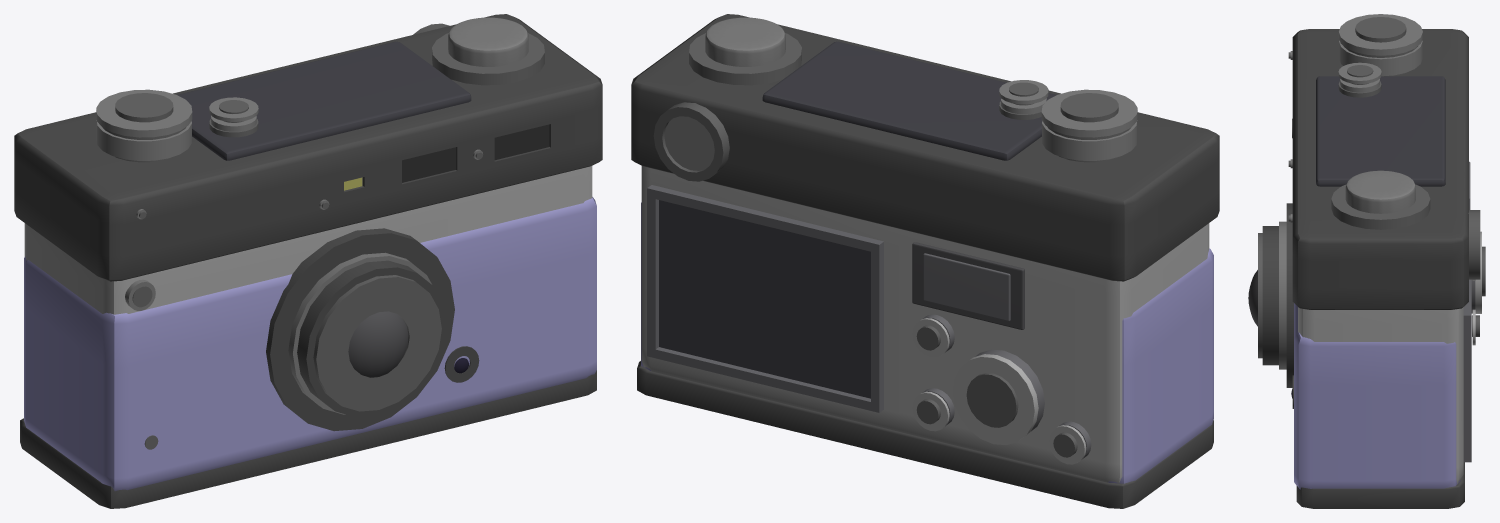
The model's file is colored camera deskroom.fbx.
The picture shows the model from 3 angles, left to right: view 1: azimuth 30°, elevation 25°; view 2: azimuth 150°, elevation 25°; view 3: azimuth 270°, elevation 25°; orthographic projection. The views are drawn at different scales.
Parts seen in each view (by area): view 1: pCube14, pCube12, pCube4, pCube1, pCylinder4, pCylinder1, pCylinder3, pCylinder6, pSphere1, pCylinder5, pCube15, pCylinder13 (+5 smaller); view 2: pCube14, pCube1, pCube8, pCube4, pCube12, pCube9, pCube11, pCylinder26, pCylinder6, pCube10, pCylinder5, pCylinder38 (+10 smaller); view 3: pCube14, pCube12, pCube4, pCube1, pCylinder6, pCylinder3, pCylinder5, pCylinder13, pCube9, pCylinder1, pCylinder8, pCylinder2 (+7 smaller).
Boxes of the visible parts, x1,y1,x2,y2 form: pCube14: (14, 14, 602, 508); pCube12: (24, 197, 596, 491); pCube4: (177, 41, 471, 160); pCube1: (24, 166, 592, 314); pCylinder4: (313, 275, 441, 411); pCylinder1: (266, 228, 454, 431); pCylinder3: (297, 260, 445, 416); pCylinder6: (448, 17, 528, 66); pSphere1: (348, 311, 408, 377); pCylinder5: (432, 33, 544, 85); pCube15: (402, 124, 549, 182); pCylinder13: (96, 89, 192, 137); pCube14: (631, 14, 1219, 508); pCube1: (641, 166, 1209, 482); pCube8: (659, 200, 870, 398); pCube4: (762, 41, 1056, 160); pCube12: (641, 202, 1213, 483); pCube9: (647, 185, 883, 412); pCube11: (923, 253, 1010, 321); pCylinder26: (952, 354, 1038, 444); pCylinder6: (705, 17, 785, 66); pCube10: (912, 242, 1024, 329); pCylinder5: (689, 33, 801, 85); pCylinder38: (653, 102, 729, 181); pCube14: (1292, 29, 1468, 508); pCube12: (1294, 303, 1460, 489); pCube4: (1316, 76, 1445, 186); pCube1: (1298, 307, 1463, 483); pCylinder6: (1345, 170, 1415, 213); pCylinder3: (1262, 226, 1278, 365); pCylinder5: (1331, 184, 1430, 229); pCylinder13: (1338, 14, 1422, 55); pCube9: (1463, 279, 1471, 462); pCylinder1: (1286, 203, 1293, 387); pCylinder8: (1339, 40, 1422, 76); pCylinder2: (1279, 221, 1286, 369).
Bounding box in the file's own units: 14.25 × 9.55 × 6.67.
